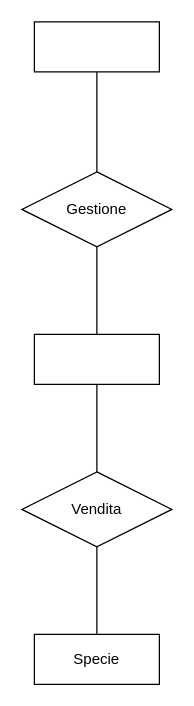
This 194x706 diagram has some shape labels left out. Each missing label, with the centre of its shape:
"Azienda" belongs at pixel 96 358.
"Gestore" belongs at pixel 96 46.
